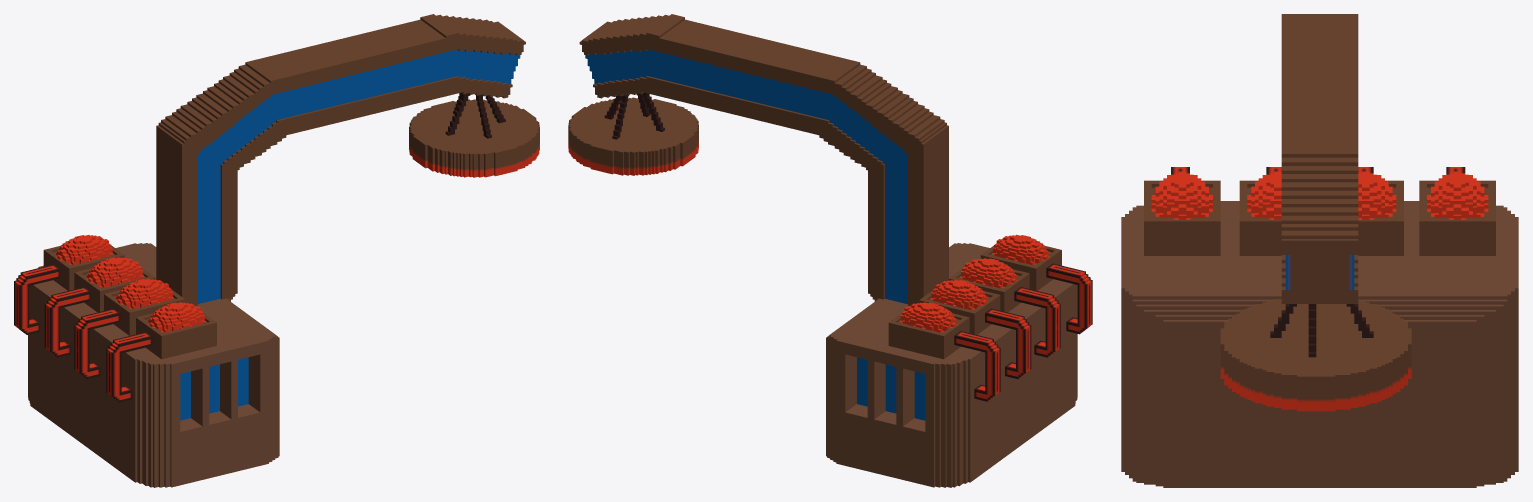
The model's file is Enviroment-3-Magnet.fbx.
3 renders of one model, left to right at view 1: azimuth 30°, elevation 25°; view 2: azimuth 150°, elevation 25°; view 3: azimuth 270°, elevation 25°, orthographic. The views are drawn at different scales.
Parts seen in each view (by area): view 1: Magnet; view 2: Magnet; view 3: Magnet.
Boxes of the visible parts, x1,y1,x2,y2 form: Magnet: [14, 14, 539, 487]; Magnet: [568, 14, 1092, 487]; Magnet: [1121, 14, 1518, 487].
Size of the model in its own units: 210 by 143 by 104.
